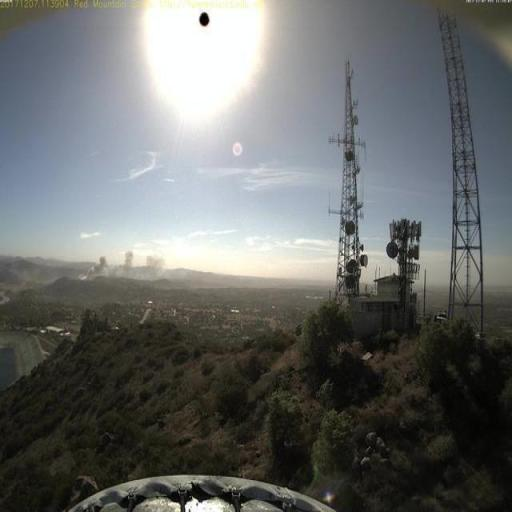smoke: (72, 244, 168, 283)
